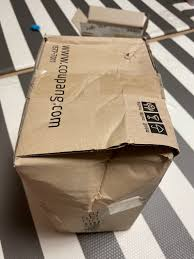damaged package: (17, 139, 183, 164)
